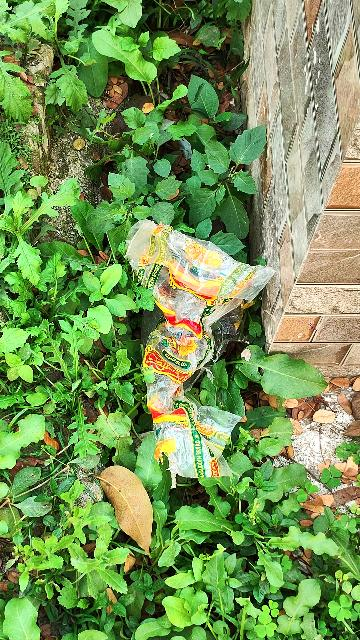polythene: (119, 224, 269, 474)
